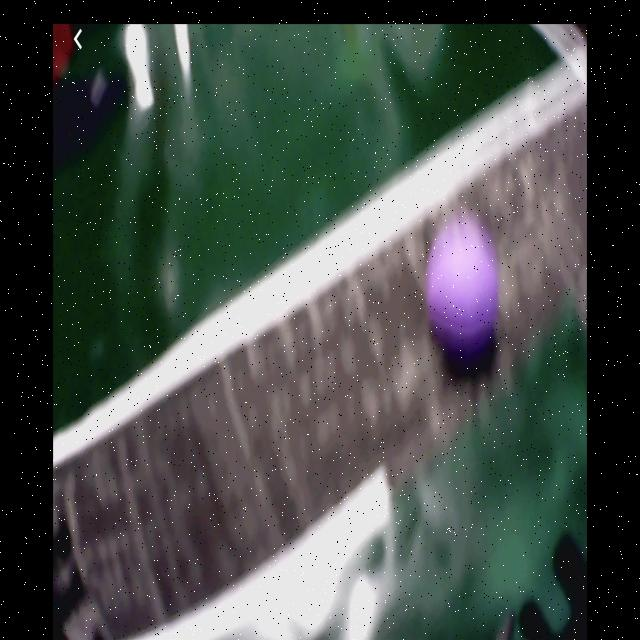ball: (425, 237, 500, 349)
